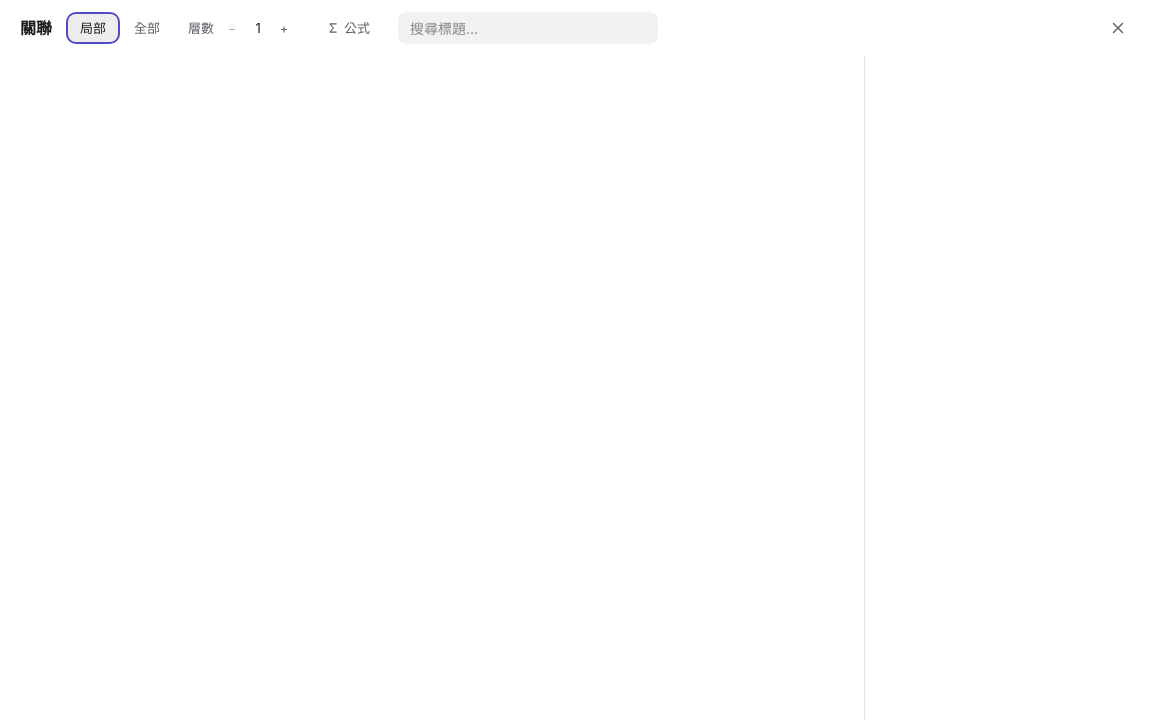
GraphOverlay › formula view with no shared formula says so
Click the button "全部" at (147, 28), box [122,14,172,42]
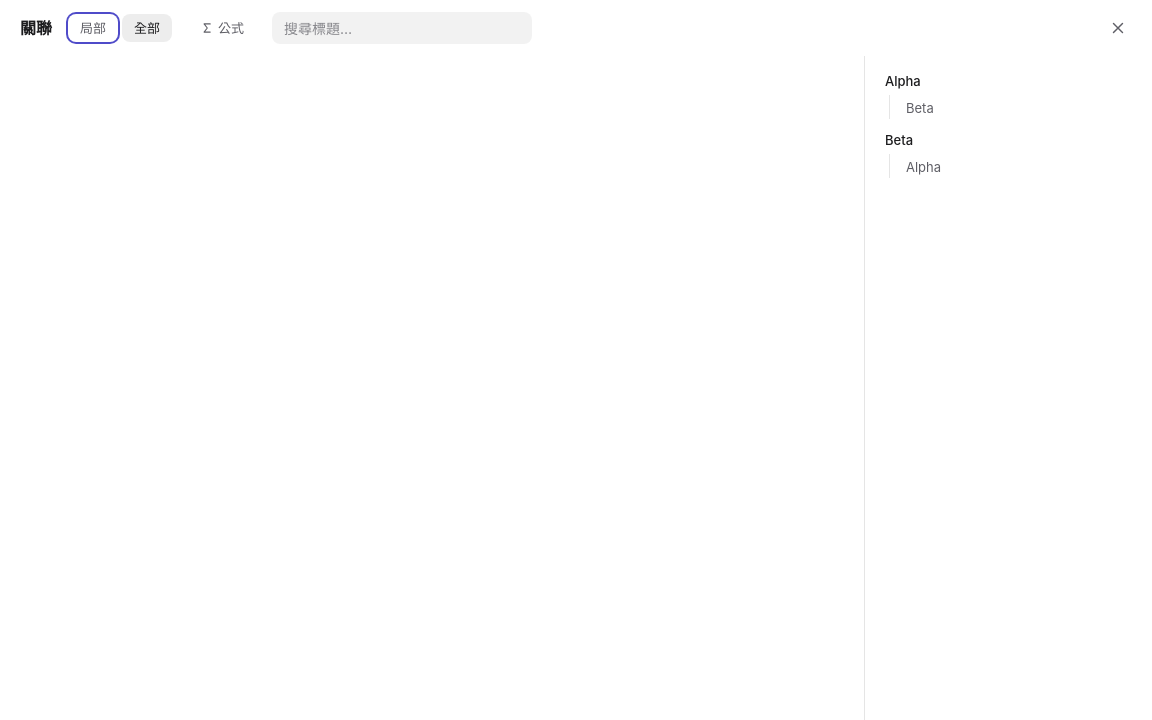
Click the button "公式" at (222, 28), box [188,14,256,42]
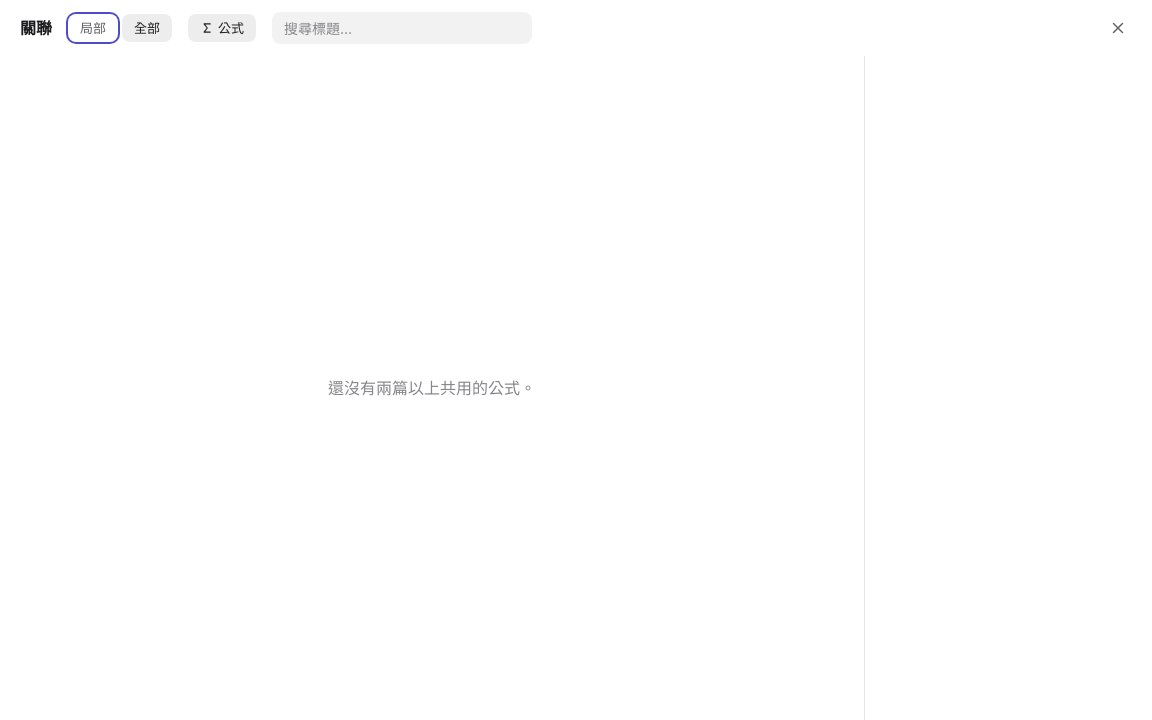
Expected: the text "還沒有兩篇以上共用的公式。" is shown, [328,378,536,398]
